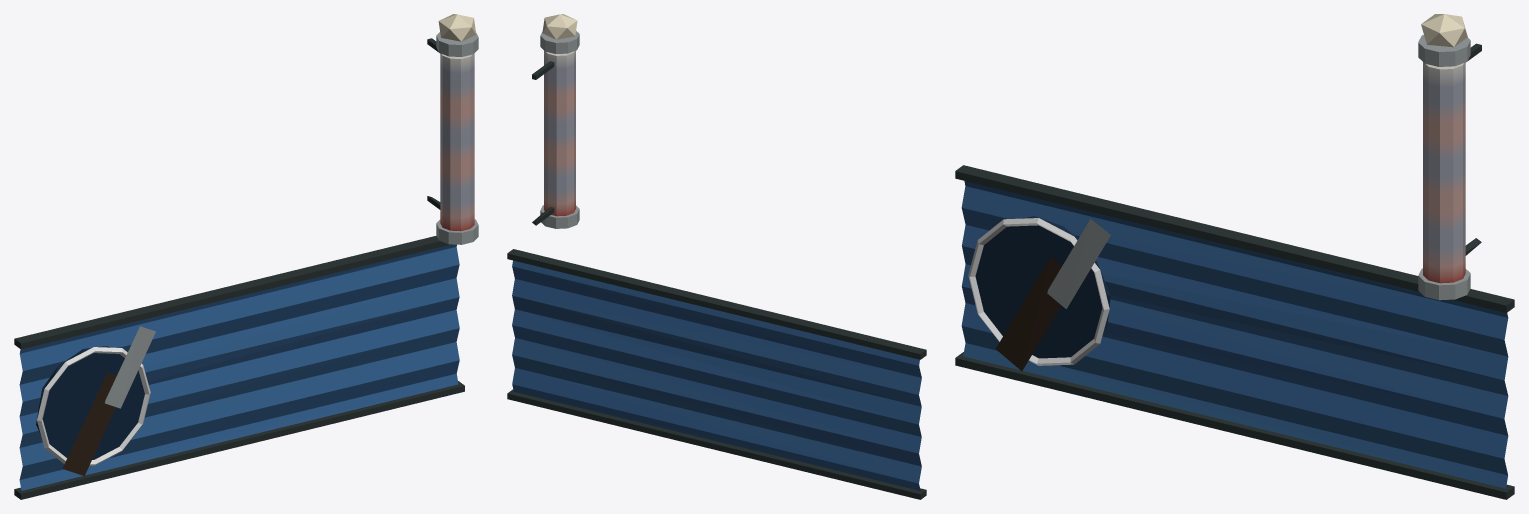
Rendered from bang_hot_toc_binh_dan_40.glb.
The picture shows the model from 3 angles, left to right: view 1: azimuth 30°, elevation 25°; view 2: azimuth 150°, elevation 25°; view 3: azimuth 330°, elevation 25°; orthographic projection. The views are drawn at different scales.
Parts seen in each view (by area): view 1: bang_hot_toc_binh_dan_40; view 2: bang_hot_toc_binh_dan_40; view 3: bang_hot_toc_binh_dan_40.
Part boxes in pixels (x1=…): bang_hot_toc_binh_dan_40: x1=14, y1=14, x2=478, y2=499; bang_hot_toc_binh_dan_40: x1=507, y1=14, x2=926, y2=499; bang_hot_toc_binh_dan_40: x1=955, y1=14, x2=1514, y2=499.
Size of the model in its own units: 3.86 by 3.32 by 0.5722.
